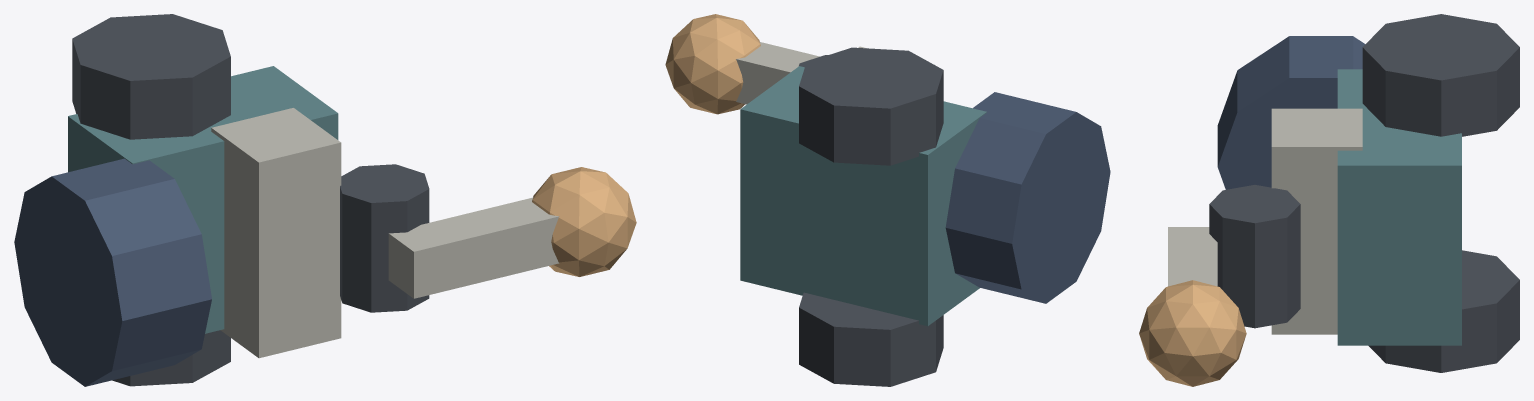
File: repair.glb
3 views of the same model, side by side, from view 1: azimuth 30°, elevation 25°; view 2: azimuth 150°, elevation 25°; view 3: azimuth 270°, elevation 25° (orthographic). The views are drawn at different scales.
Visible parts, largest first — view 1: cable_spool, armor_panel, wheel_left, chassis, repair_arm, arm_base, tool_emitter, wheel_right; view 2: chassis, cable_spool, wheel_left, wheel_right, tool_emitter, repair_arm; view 3: chassis, wheel_left, armor_panel, cable_spool, arm_base, tool_emitter, wheel_right, repair_arm.
Boxes of the visible parts, x1,y1,x2,y2 form: cable_spool: (14,158,211,386); armor_panel: (211,108,341,358); wheel_left: (72,14,230,139); chassis: (68,66,338,333); repair_arm: (388,197,559,298); arm_base: (340,164,429,312); tool_emitter: (532,167,636,276); wheel_right: (112,330,230,386); chassis: (740,66,986,326); cable_spool: (945,92,1110,303); wheel_left: (799,47,943,165); wheel_right: (799,292,943,386); tool_emitter: (665,14,760,114); repair_arm: (736,42,819,104); chassis: (1337,69,1461,345); wheel_left: (1362,14,1519,136); armor_panel: (1271,108,1362,334); cable_spool: (1217,36,1365,189); arm_base: (1209,185,1300,328); tool_emitter: (1139,280,1246,386); wheel_right: (1368,250,1519,372); repair_arm: (1168,227,1217,286).
Size of the model in its own units: 1.32 by 0.78 by 0.92.
